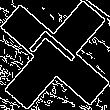L_SE: (25, 26, 85, 84)
